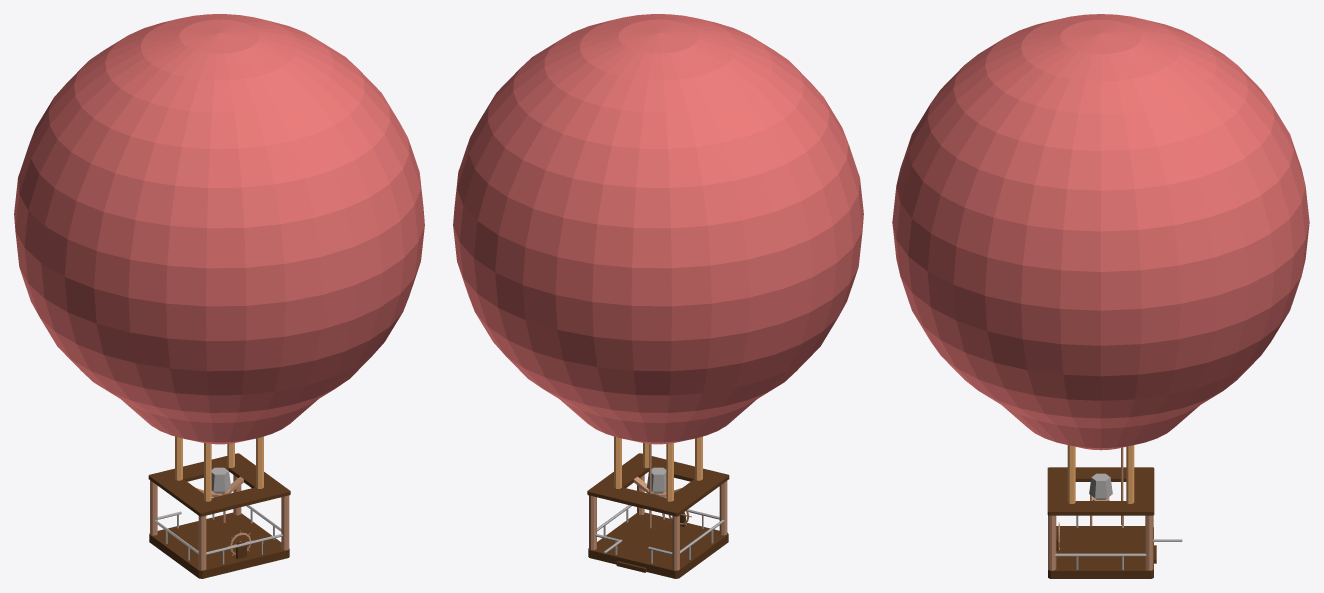
File: HotAirBalloonV6.fbx
3 renders of one model, left to right at view 1: azimuth 30°, elevation 25°; view 2: azimuth 150°, elevation 25°; view 3: azimuth 270°, elevation 25°, orthographic.
Parts seen in each view (by area): view 1: Balloon, Base, Roof, Roof Pillars, Burner; view 2: Balloon, Base, Roof, Roof Pillars, Burner; view 3: Balloon, Base, Roof, Roof Pillars, Burner.
Boxes of the visible parts, x1=… form: Balloon: x1=14, y1=14, x2=424, y2=444; Base: x1=149, y1=512, x2=289, y2=578; Roof: x1=148, y1=453, x2=290, y2=516; Roof Pillars: x1=175, y1=436, x2=263, y2=501; Burner: x1=196, y1=467, x2=243, y2=497; Balloon: x1=453, y1=14, x2=863, y2=444; Base: x1=588, y1=512, x2=728, y2=578; Roof: x1=587, y1=453, x2=729, y2=516; Roof Pillars: x1=614, y1=436, x2=702, y2=501; Burner: x1=634, y1=467, x2=681, y2=497; Balloon: x1=892, y1=14, x2=1309, y2=450; Base: x1=1048, y1=526, x2=1156, y2=578; Roof: x1=1047, y1=467, x2=1154, y2=515; Roof Pillars: x1=1067, y1=445, x2=1134, y2=503; Burner: x1=1089, y1=473, x2=1112, y2=500.
Bounding box in the file's own units: 4708 × 6512 × 4708.
